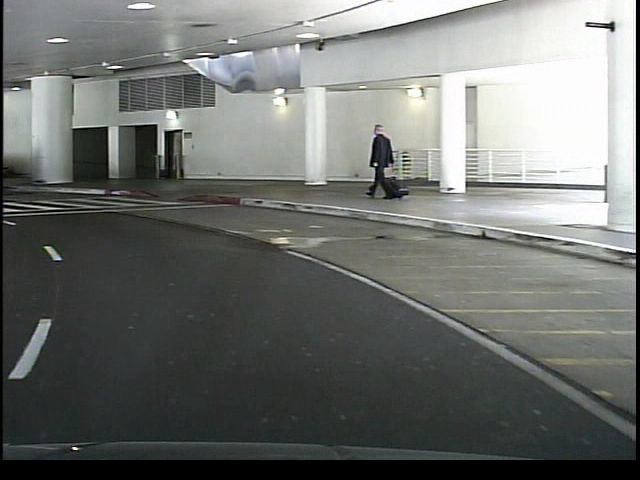person: (362, 121, 397, 199)
